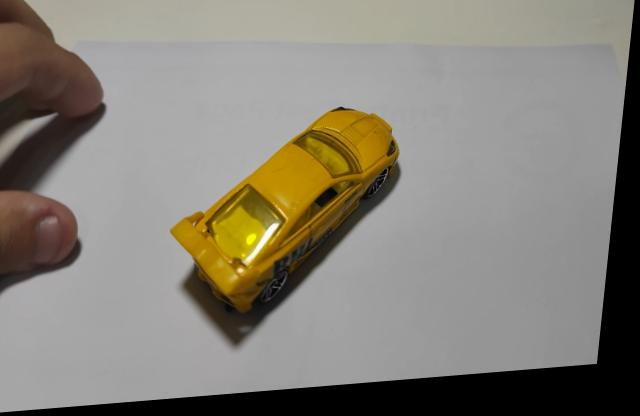07_RHLTURBO: (176, 115, 405, 321)
